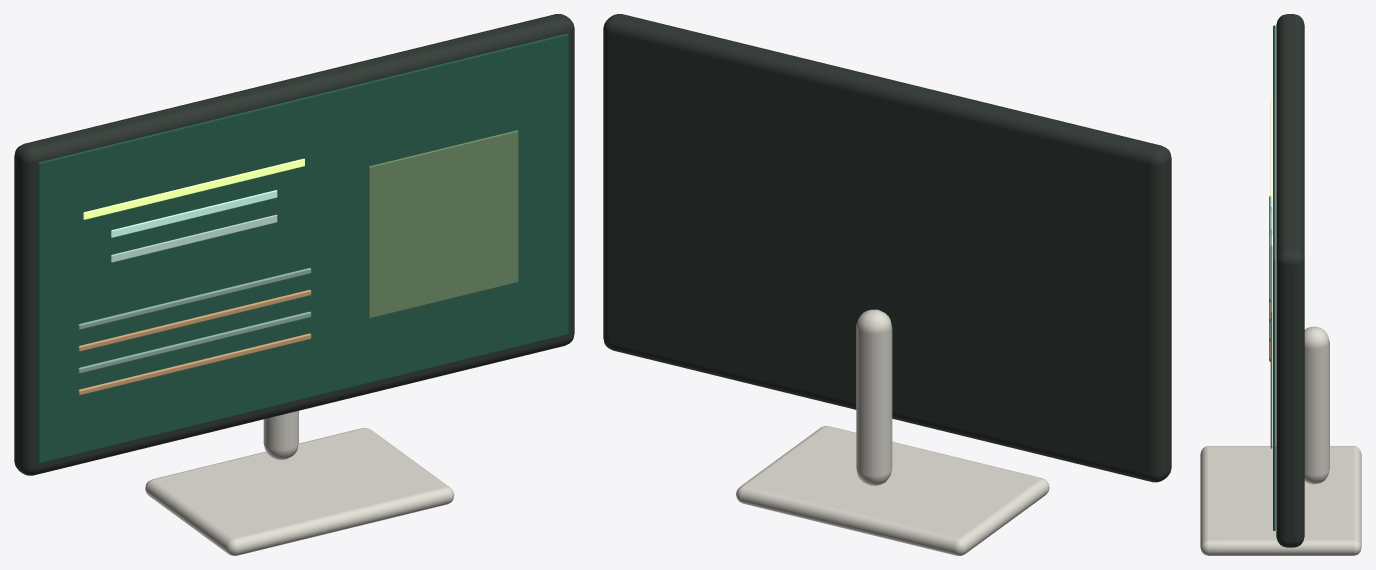
Rendered from monitor-27.glb.
3 views of the same model, side by side, from view 1: azimuth 30°, elevation 25°; view 2: azimuth 150°, elevation 25°; view 3: azimuth 270°, elevation 25° (orthographic). The views are drawn at different scales.
Visible parts, largest first — view 1: monitor-27; view 2: monitor-27; view 3: monitor-27.
Part boxes in pixels (left/top/right/bottom): monitor-27: left=14, top=14, right=574, bottom=555; monitor-27: left=603, top=14, right=1171, bottom=555; monitor-27: left=1200, top=14, right=1361, bottom=555.
Bounding box in the file's own units: 0.61 × 0.4375 × 0.17.
